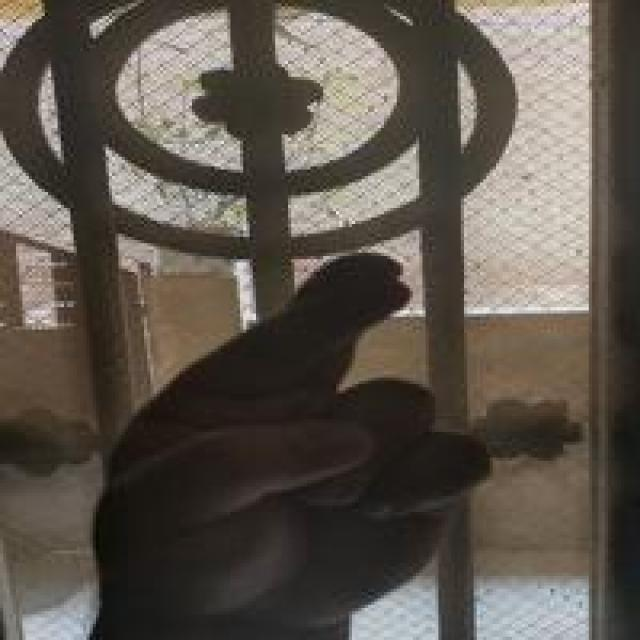R: (87, 245, 500, 616)
